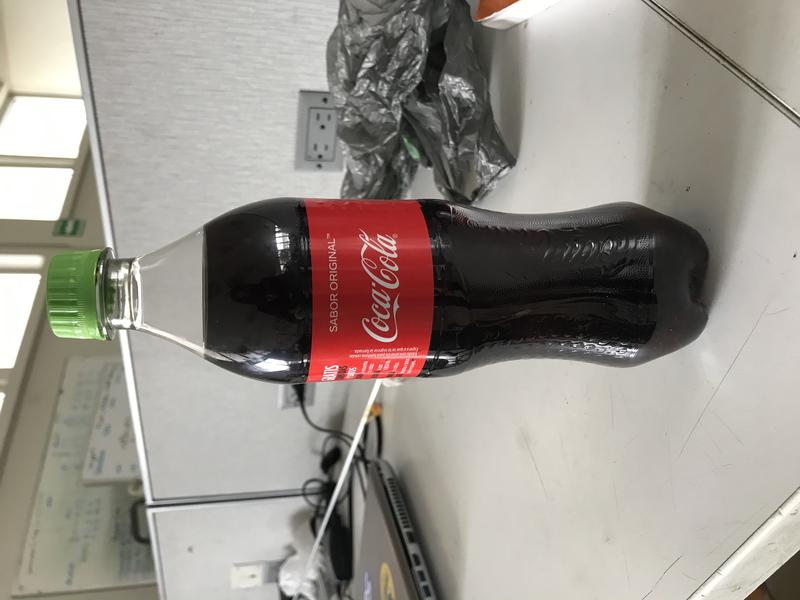coca_cola: (42, 198, 711, 386)
